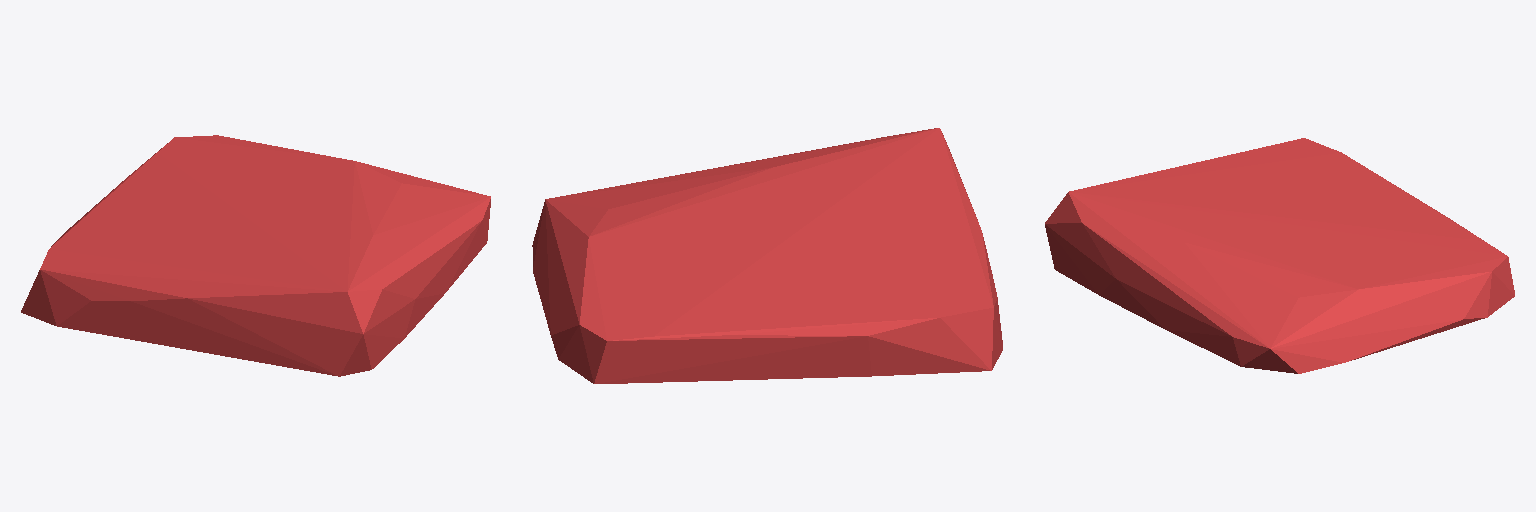
robot.urdf — obj_01:
<?xml version="1.0"?>
<robot name="obj_01">
  <!-- book: paper, 312 g. Written by Darius 0.2.0. Link frame: +z up, origin at the capture-time bounding-box center; place it at the pose in world.json -->
  <mujoco>
    <compiler meshdir="../meshes/" discardvisual="true" balanceinertia="true" fusestatic="false" />
  </mujoco>
  <link name="obj_01">
    <inertial>
      <origin xyz="-0.00051 -0.00266 -0.00443" rpy="0 0 0" />
      <mass value="0.3118" />
      <inertia ixx="0.000500391" ixy="-4.70297e-05" ixz="5.79369e-06" iyy="0.000469227" iyz="1.79467e-05" izz="0.000940792" />
    </inertial>
    <visual>
      <geometry>
        <mesh filename="../meshes/obj_01_visual.obj" />
      </geometry>
      <material name="obj_01_color">
        <color rgba="0.878 0.333 0.341 1" />
      </material>
    </visual>
    <collision name="obj_01">
      <geometry>
        <mesh filename="../meshes/obj_01.obj" />
      </geometry>
    </collision>
    <contact>
      <lateral_friction value="0.6" />
      <restitution value="0.05" />
    </contact>
  </link>
</robot>

--- Render facts (derived) ---
Views: 3 orthographic renders of the robot side by side, from view 1: azimuth 30°, elevation 25°; view 2: azimuth 150°, elevation 25°; view 3: azimuth 270°, elevation 25°.
Model obj_01 with 1 links and 0 joints (none), rooted at obj_01, posed all joints at 0.
Links seen in each view (by area): view 1: obj_01; view 2: obj_01; view 3: obj_01.
Link boxes in pixels (bbox=[...]): obj_01: bbox=[21, 135, 490, 376]; obj_01: bbox=[532, 128, 1002, 383]; obj_01: bbox=[1045, 138, 1514, 373].
Bounding box of the posed robot: 0.1863 × 0.1878 × 0.031 m (x, y, z).
Meshes: 1 distinct files referenced, 1 mesh visuals loaded (1 OBJ).
